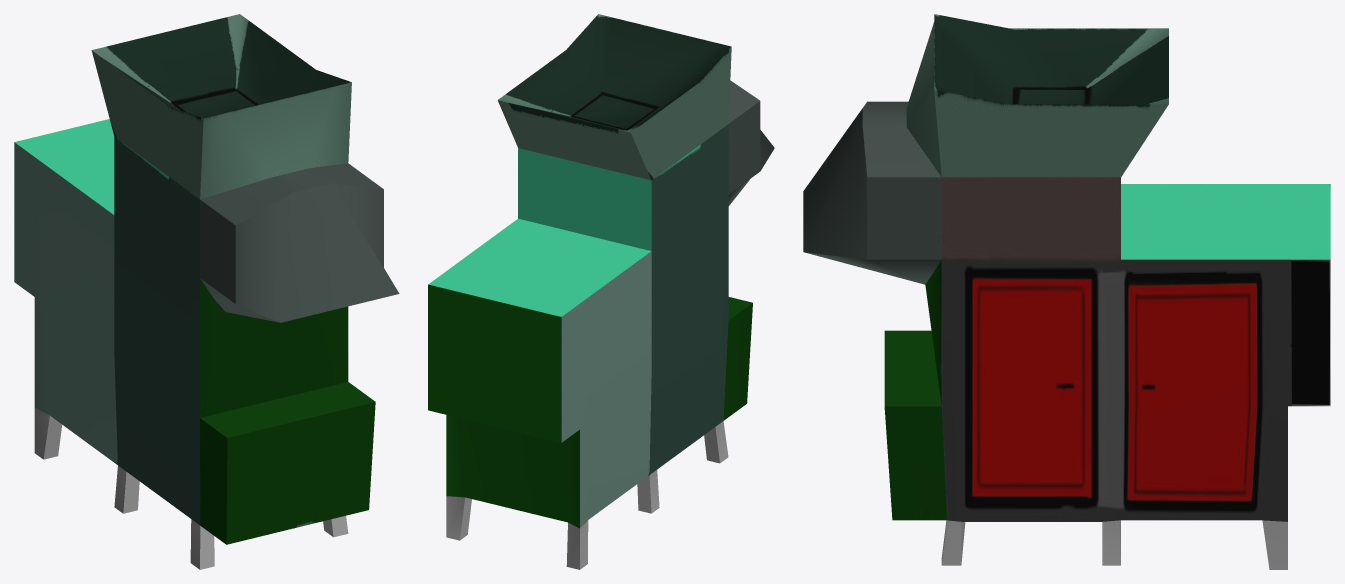
Rendered from Crazy_Machine1.fbx.
The picture shows the model from 3 angles, left to right: view 1: azimuth 30°, elevation 25°; view 2: azimuth 150°, elevation 25°; view 3: azimuth 270°, elevation 25°; orthographic projection. The views are drawn at different scales.
Visible parts, largest first — view 1: pCube1; view 2: pCube1; view 3: pCube1.
Part boxes in pixels (left/top/right/bottom): pCube1: left=14, top=14, right=399, bottom=569; pCube1: left=428, top=14, right=774, bottom=569; pCube1: left=803, top=14, right=1330, bottom=569.
Bounding box in the file's own units: 37.31 × 110 × 110.
Materials: 1 (1 with a texture image).
